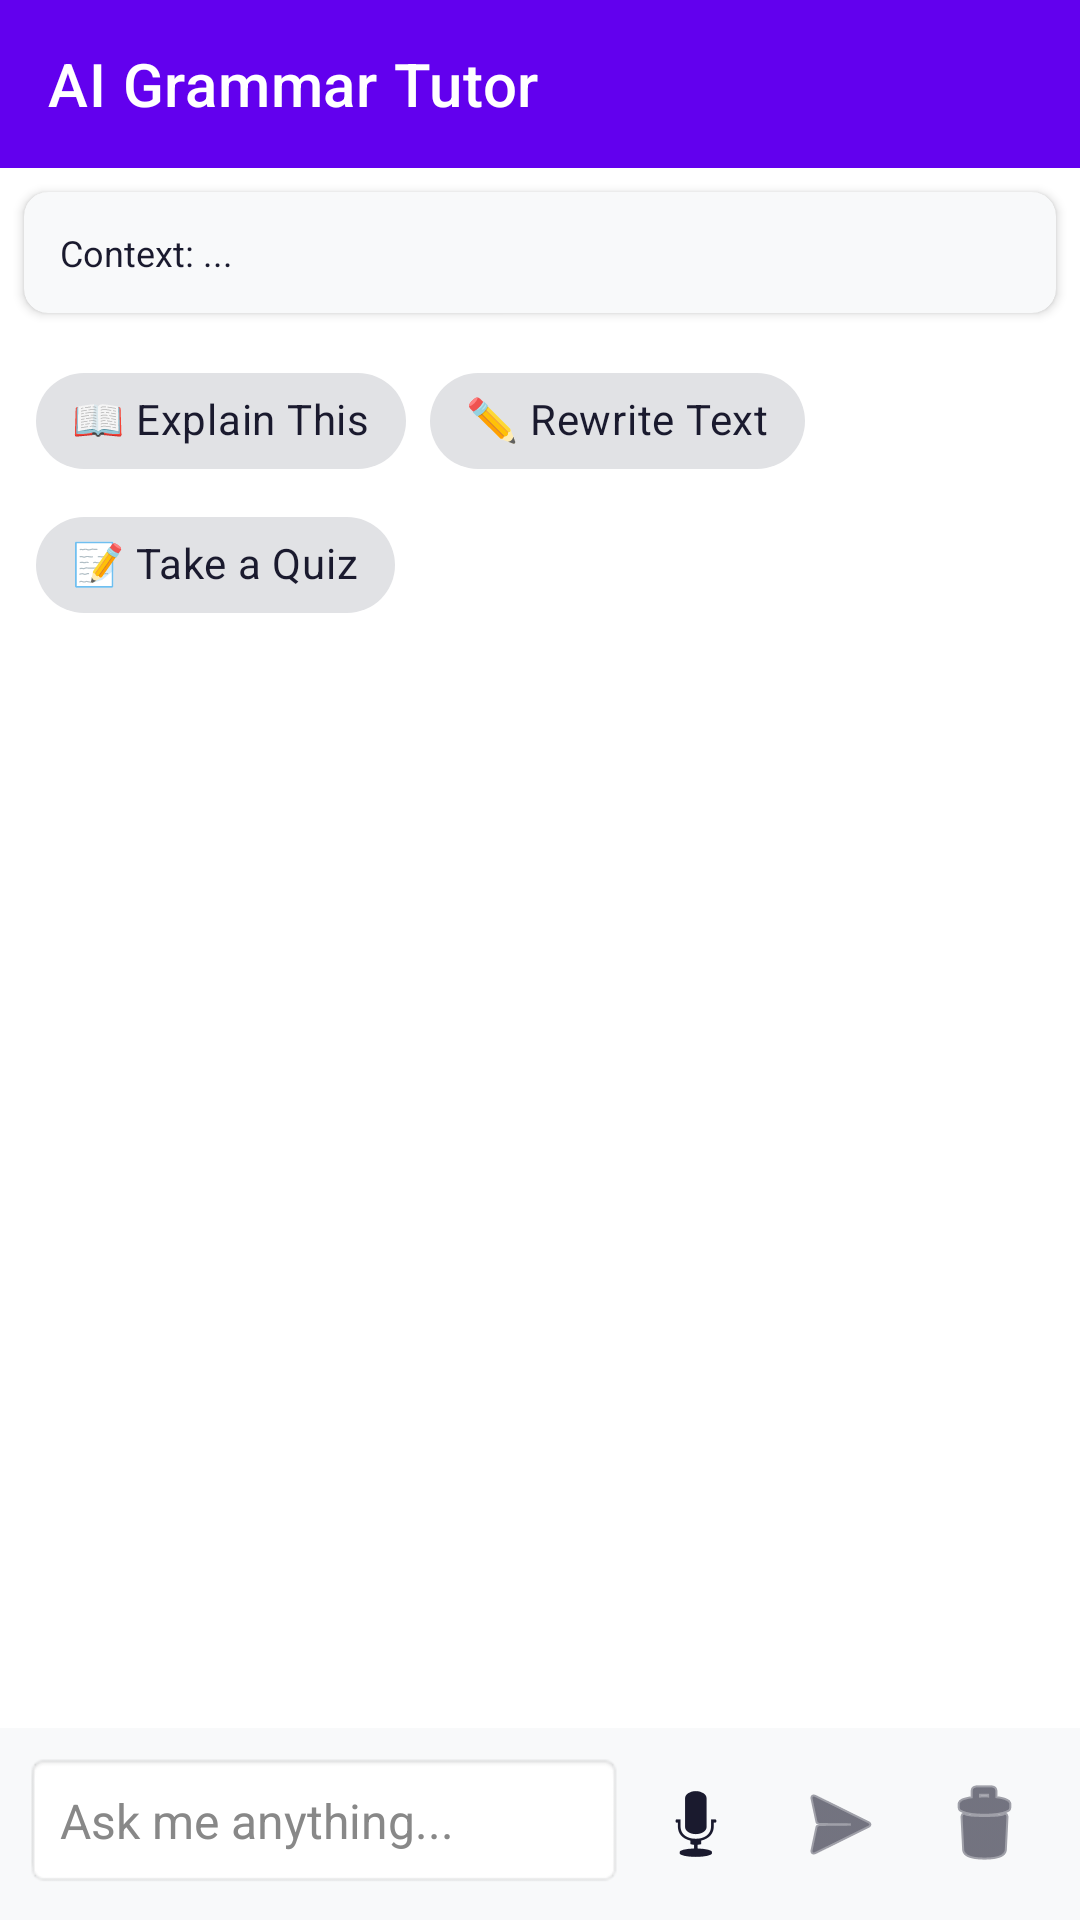

Screen size 1080×1920. Icon name, then its box in pixels as (x1, y1, x2, y2):
Clear Chat: (957, 1785, 1012, 1860)
Send: (810, 1794, 872, 1855)
Voice Input: (675, 1791, 717, 1857)
